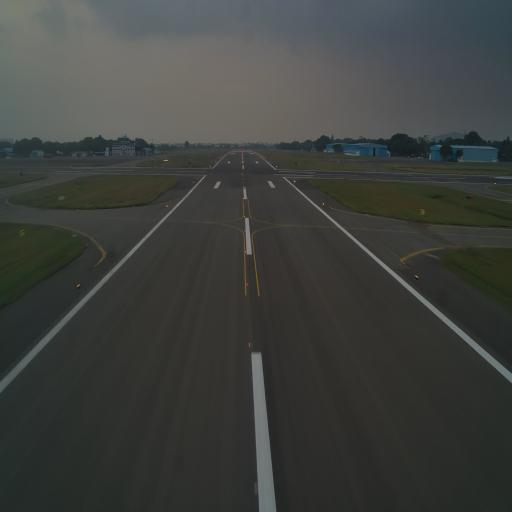on: (414, 271, 420, 281), (75, 281, 81, 290), (245, 282, 249, 288), (248, 341, 252, 347), (244, 248, 246, 254)
